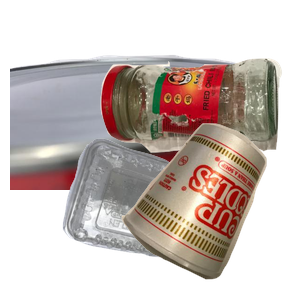glass: (98, 56, 300, 201)
metal: (10, 52, 250, 232)
plastic: (60, 136, 237, 300)
trash: (119, 121, 300, 300)
